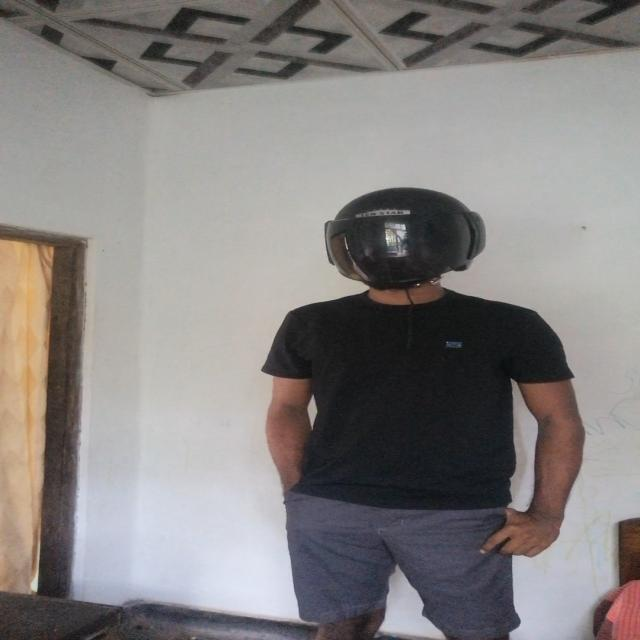Helmet_Wearer: (306, 177, 498, 320)
Person: (230, 188, 609, 640)
